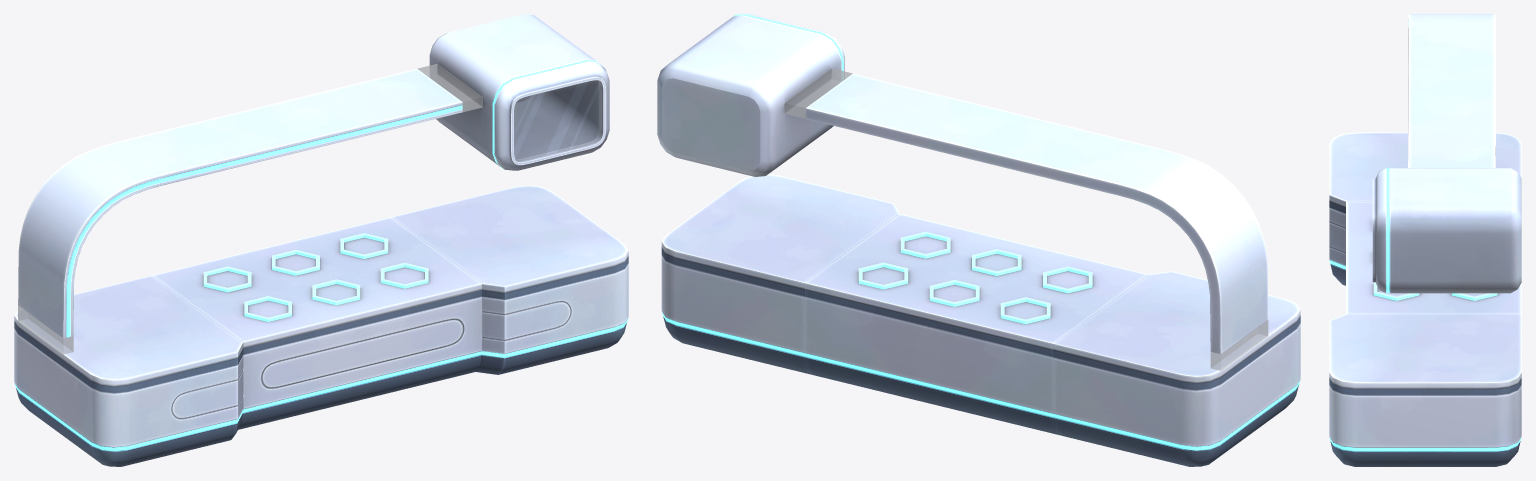
File: obj_kitchen.gltf
The picture shows the model from 3 angles, left to right: view 1: azimuth 30°, elevation 25°; view 2: azimuth 150°, elevation 25°; view 3: azimuth 270°, elevation 25°; orthographic projection. The views are drawn at different scales.
Visible parts, largest first — view 1: obj_kitchen; view 2: obj_kitchen; view 3: obj_kitchen.
Part boxes in pixels (<box>): obj_kitchen: <box>14,14,628,466</box>; obj_kitchen: <box>657,14,1300,466</box>; obj_kitchen: <box>1329,14,1521,466</box>.
Size of what is drawn, in the model's own units: 5.4 by 2.64 by 1.75.
Materials: 2 (2 with a texture image).
